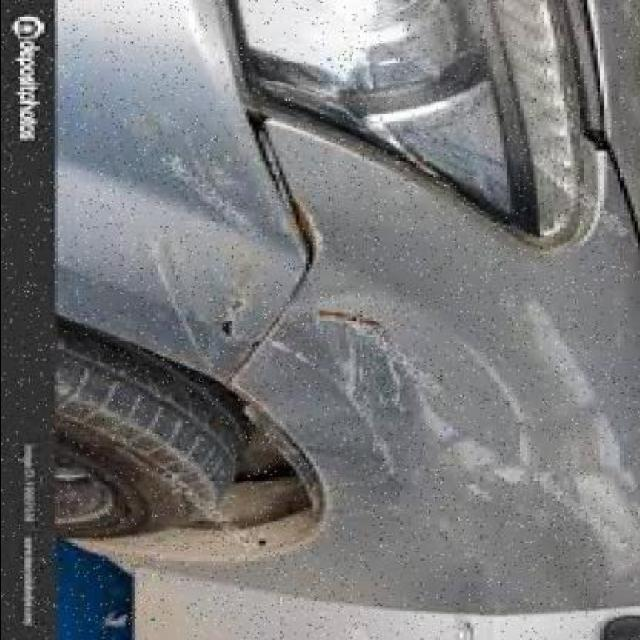fender-dent: (245, 206, 637, 599)
front-bumper-dent: (40, 0, 268, 381)
